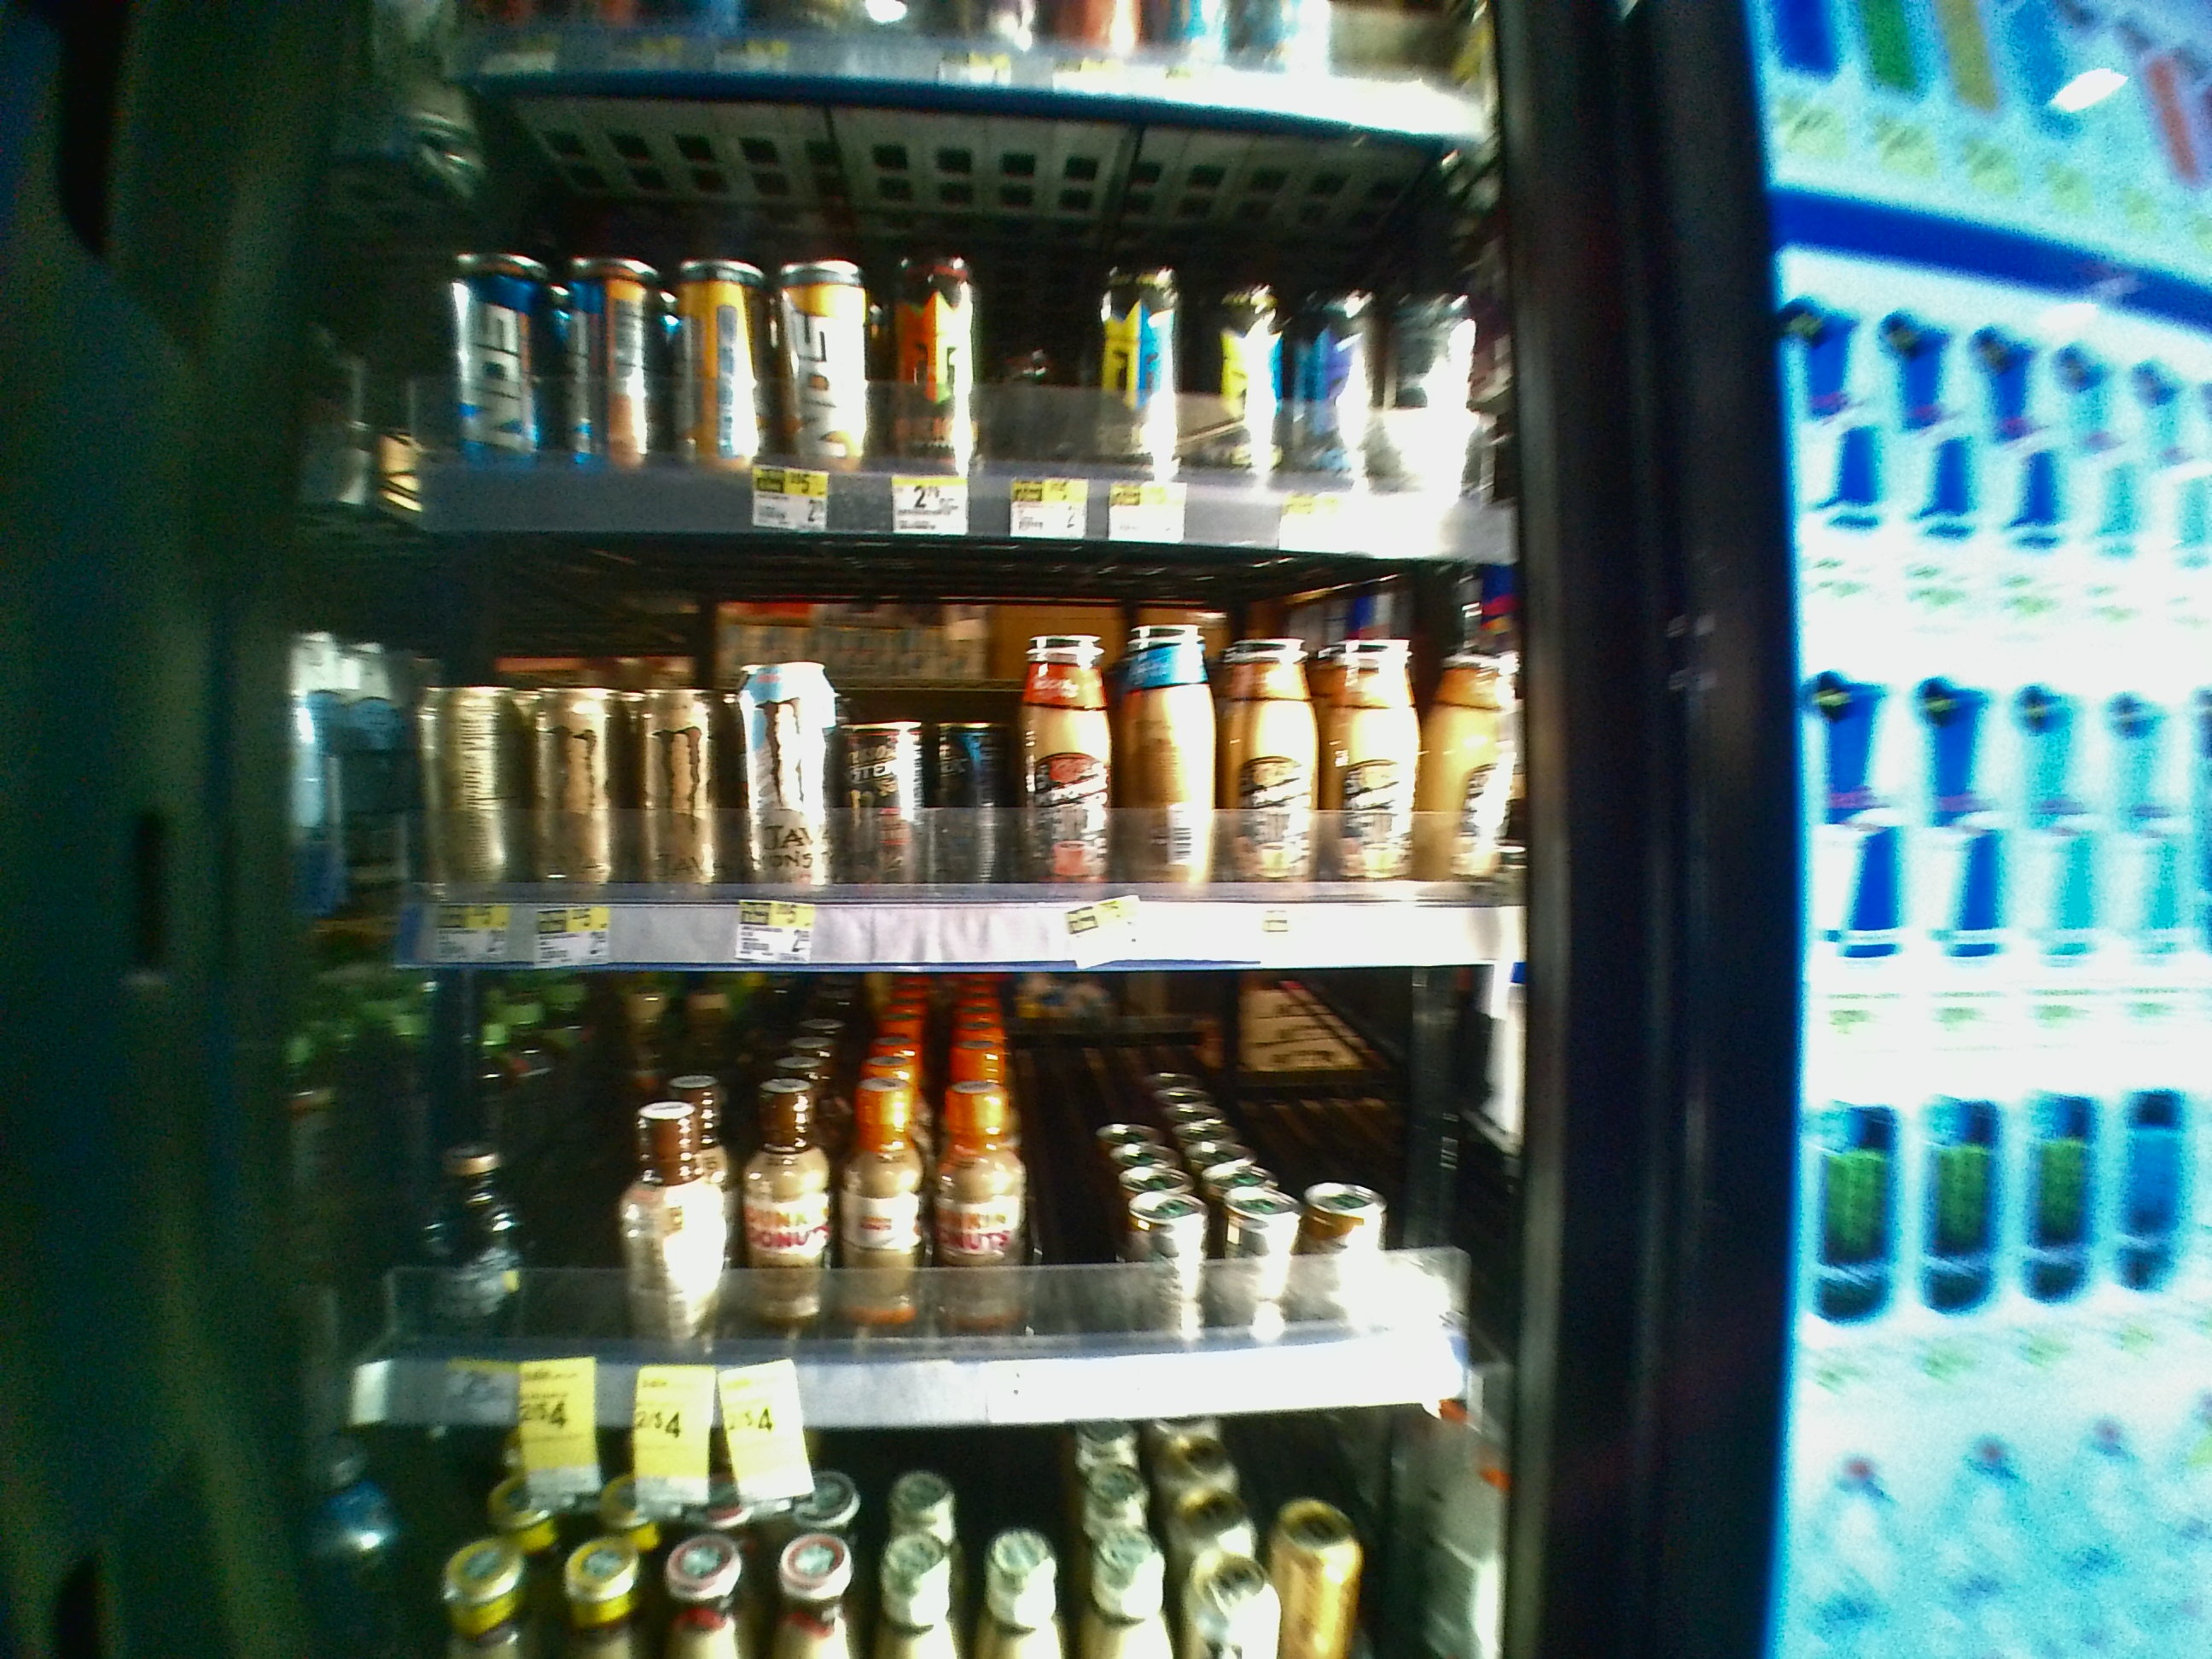shelf: (287, 971, 1554, 1417), (298, 530, 1548, 971)
